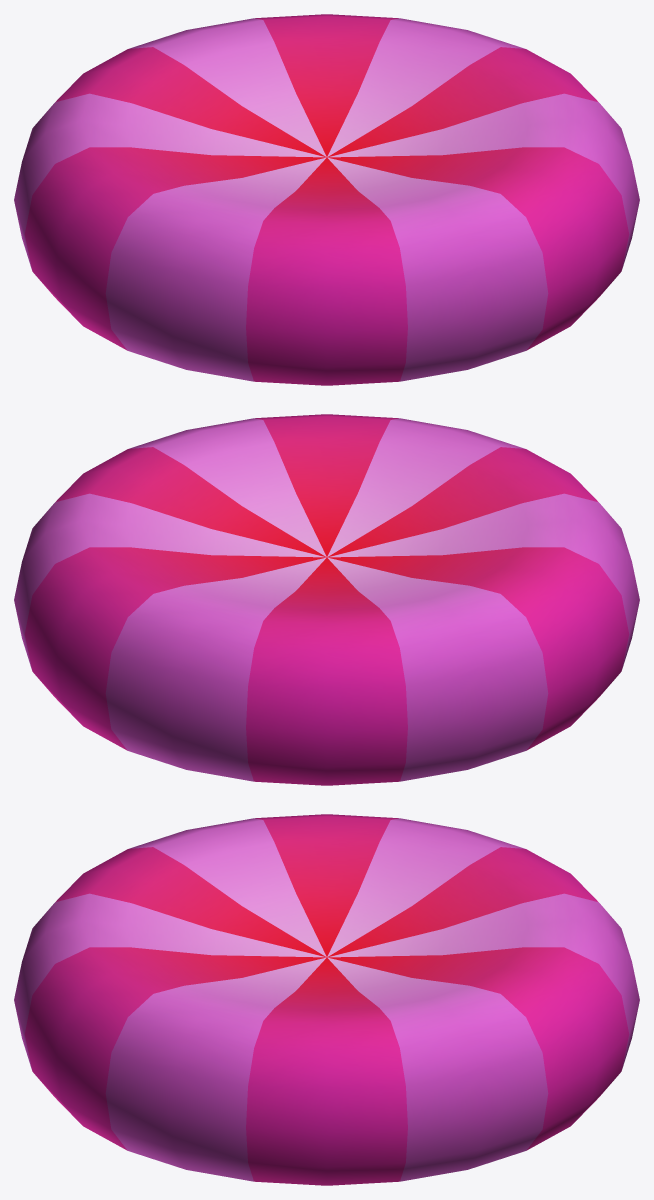
The model's file is candy_002.glb.
3 renders of one model, top to bottom at view 1: azimuth 30°, elevation 25°; view 2: azimuth 150°, elevation 25°; view 3: azimuth 270°, elevation 25°, orthographic.
Visible parts, largest first — view 1: candy_002; view 2: candy_002; view 3: candy_002.
Boxes of the visible parts, x1=… form: candy_002: x1=14, y1=14, x2=639, y2=385; candy_002: x1=14, y1=414, x2=639, y2=785; candy_002: x1=14, y1=814, x2=639, y2=1185.
Bounding box in the file's own units: 3.37 × 0.9452 × 3.37.
1 material, 1 textured.
